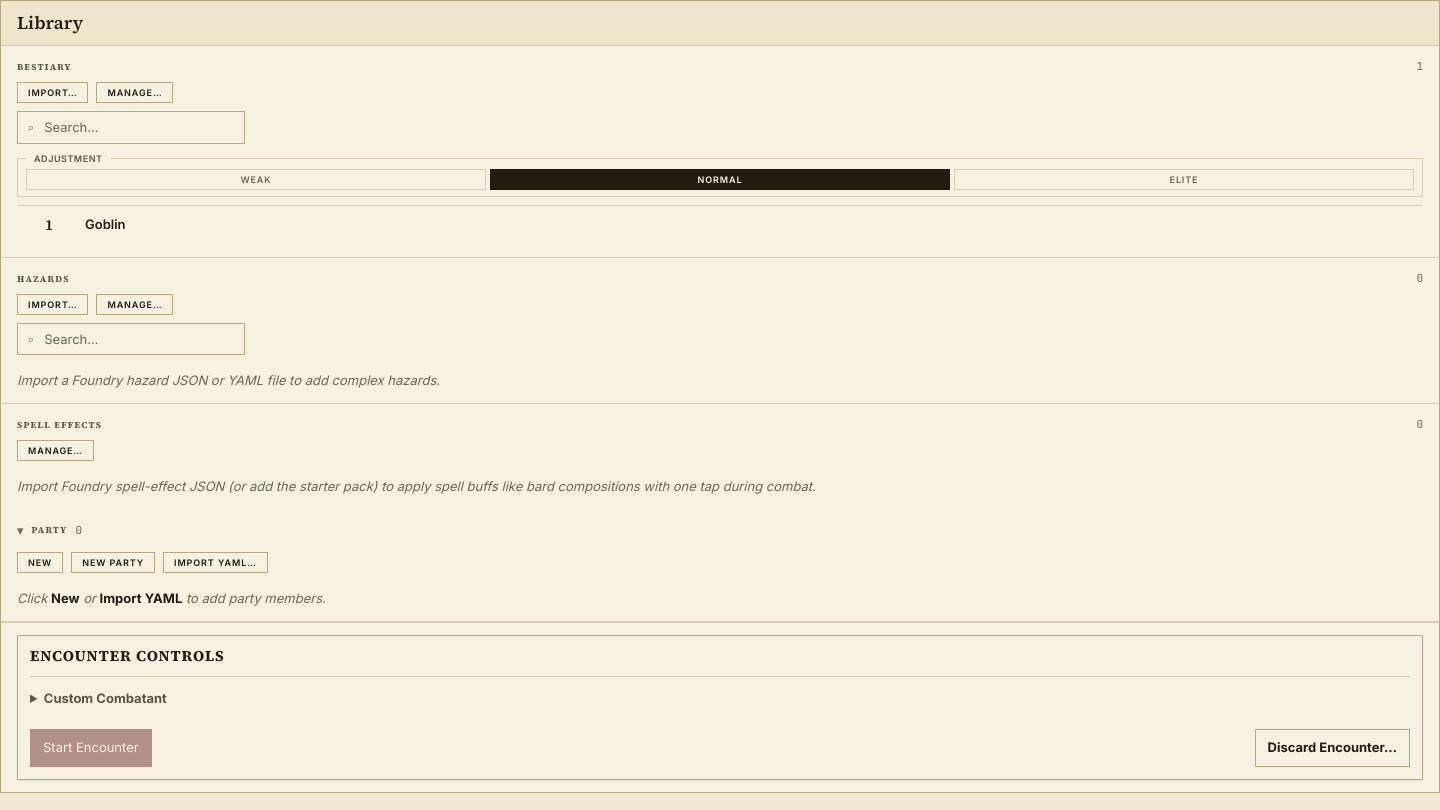
Scenario: LibraryPane › closing the manage modal hides it again
The width and height of the screenshot is (1440, 810).
Click the button "Manage…" below "Bestiary" at (135, 93), box [96,82,174,103]
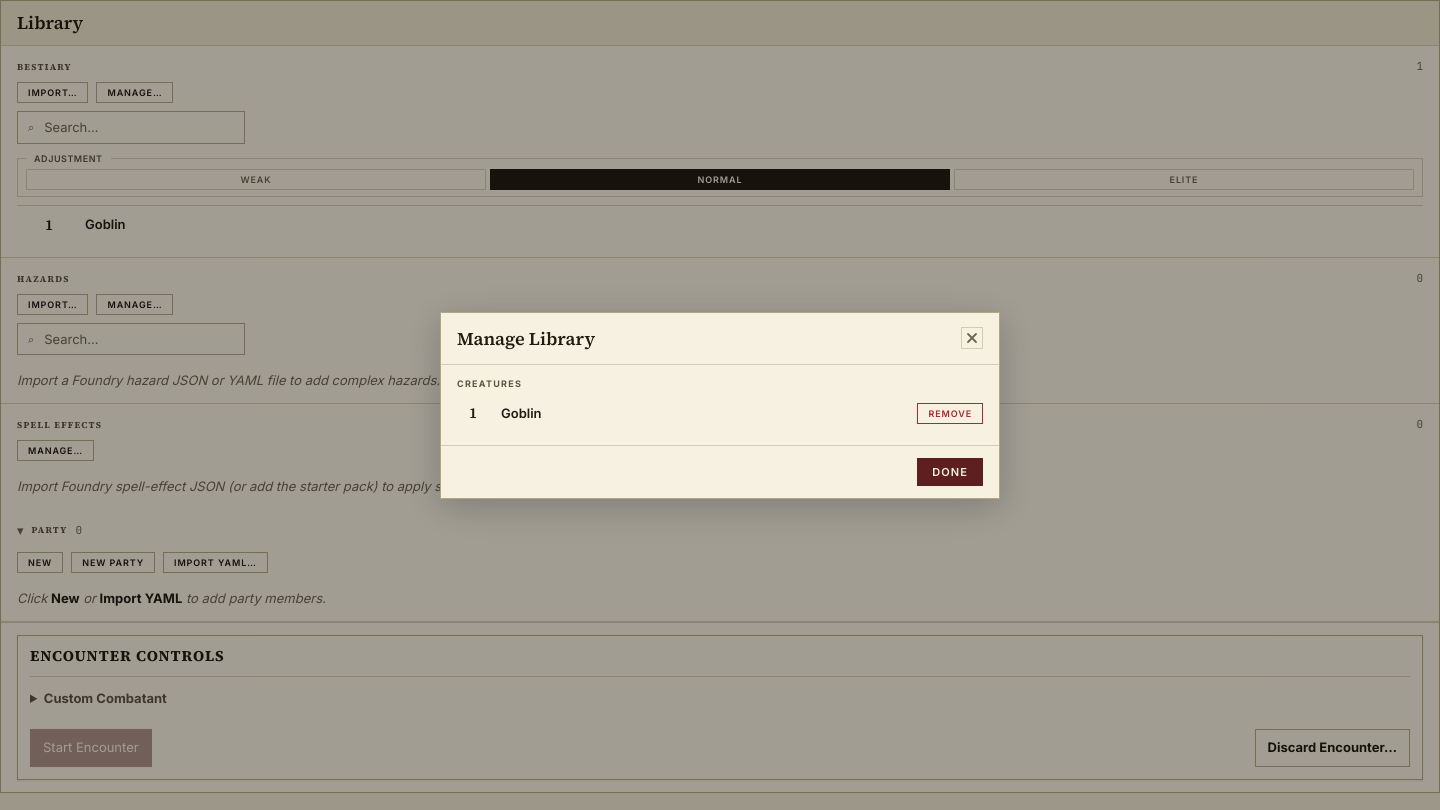
Click the button "Done" at (950, 472), box [917,458,983,486]
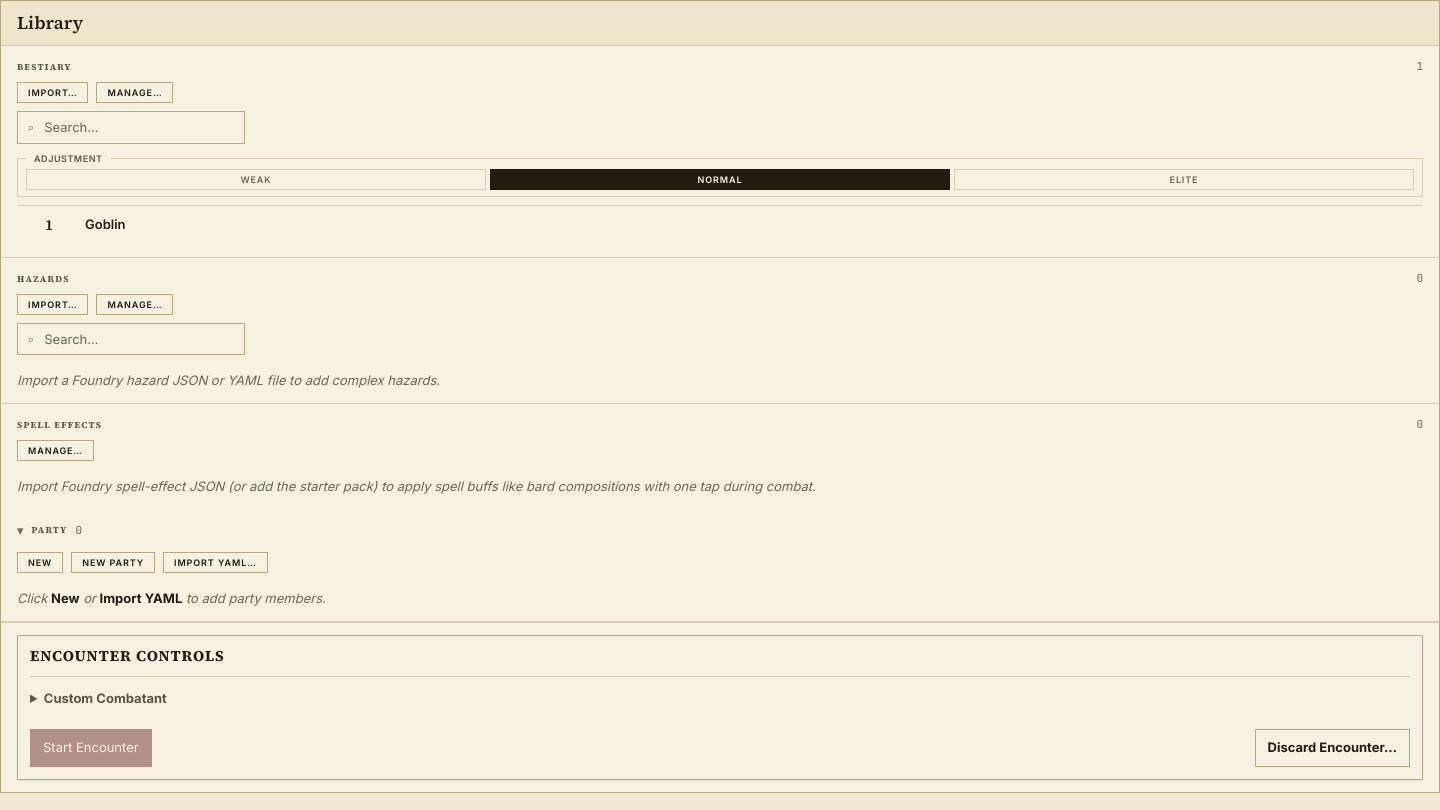
Expected: the button "Done" is gone
